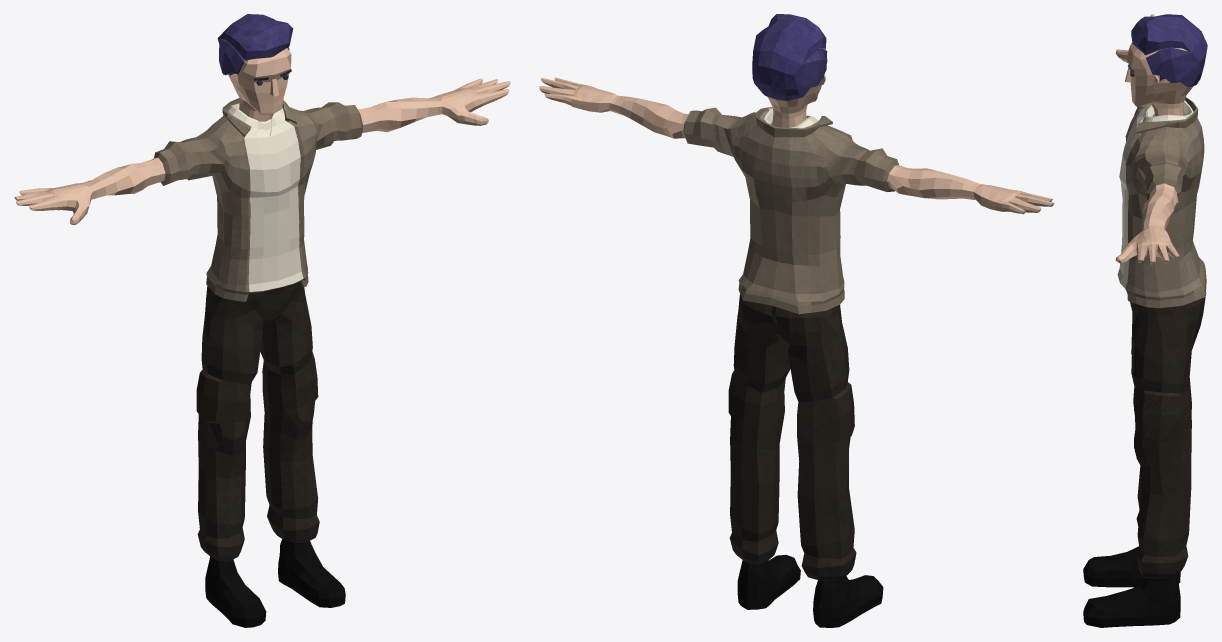
Rendered from Cyberpunk characters moedels6.fbx.
3 renders of one model, left to right at view 1: azimuth 30°, elevation 25°; view 2: azimuth 150°, elevation 25°; view 3: azimuth 270°, elevation 25°, orthographic. The views are drawn at different scales.
Parts seen in each view (by area): view 1: Cyberpunk_characters6; view 2: Cyberpunk_characters6; view 3: Cyberpunk_characters6.
Part boxes in pixels (<box>): Cyberpunk_characters6: <box>14,14,510,627</box>; Cyberpunk_characters6: <box>539,14,1054,627</box>; Cyberpunk_characters6: <box>1083,14,1207,627</box>.
Size of the model in its own units: 168 by 184 by 35.64.
